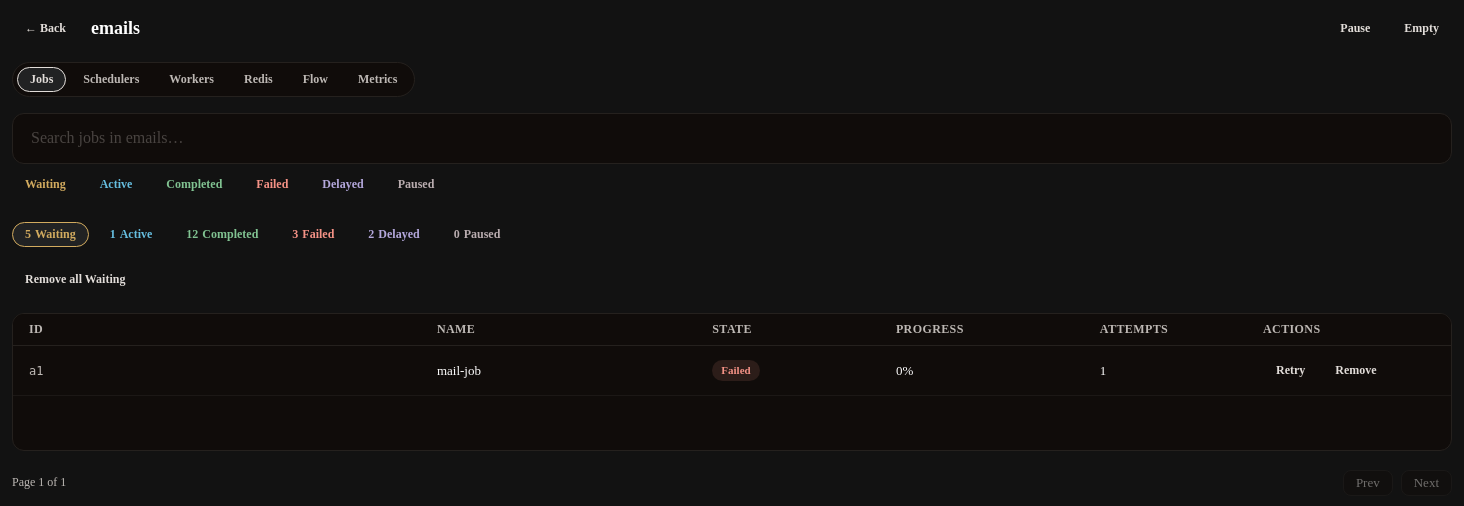
Scenario: QueueJobs actions › shows an error when an action fails
Expected: the table is shown, 13,314 -> 1451,396
Click the button with aria-label "Retry job a1" at (1291, 371), box 1263,354 -> 1318,387
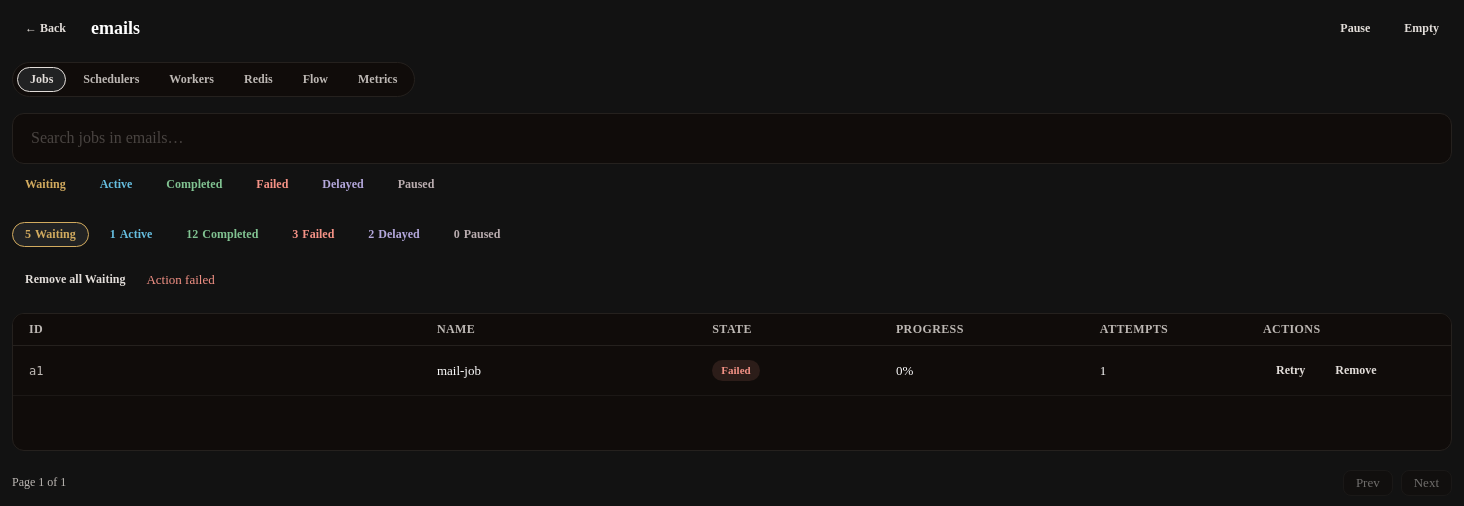
Result: the message reads "Action failed" at 146,272 -> 215,287
